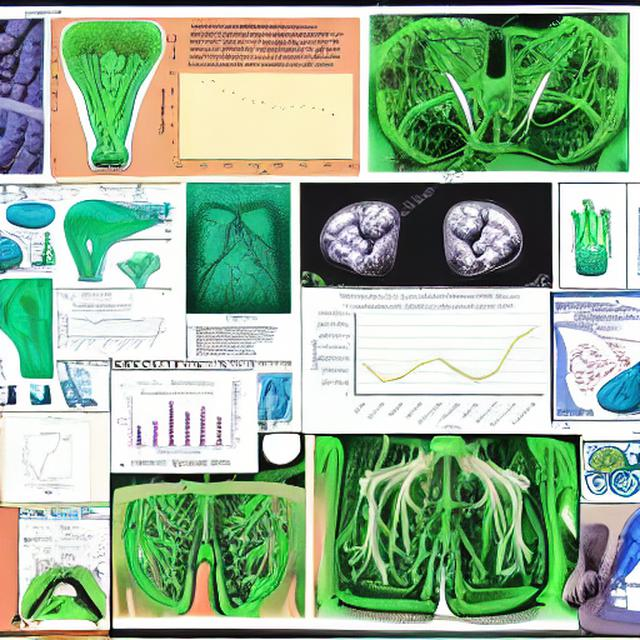Graph: (310, 291, 548, 432), (161, 61, 360, 176), (113, 389, 230, 458), (55, 302, 149, 358), (8, 428, 89, 484)
